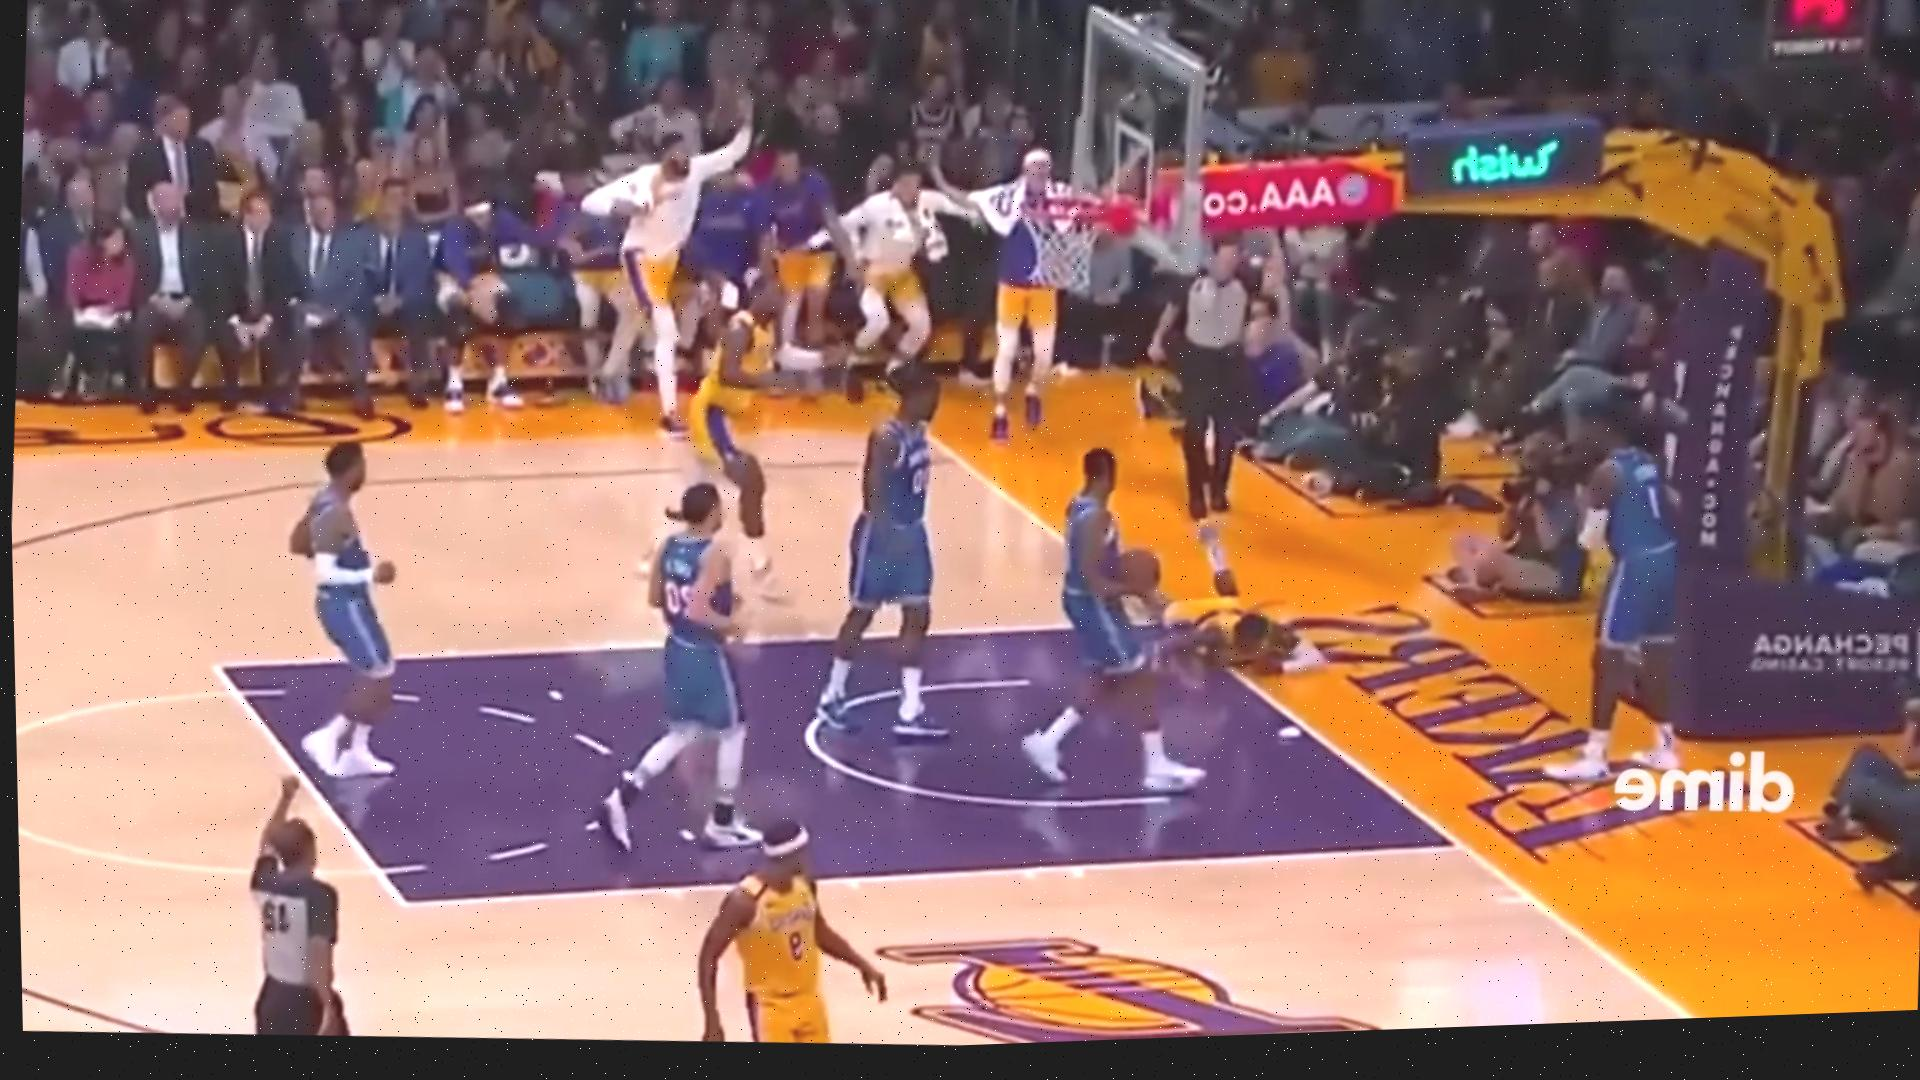no_foul: (571, 258, 816, 839)
